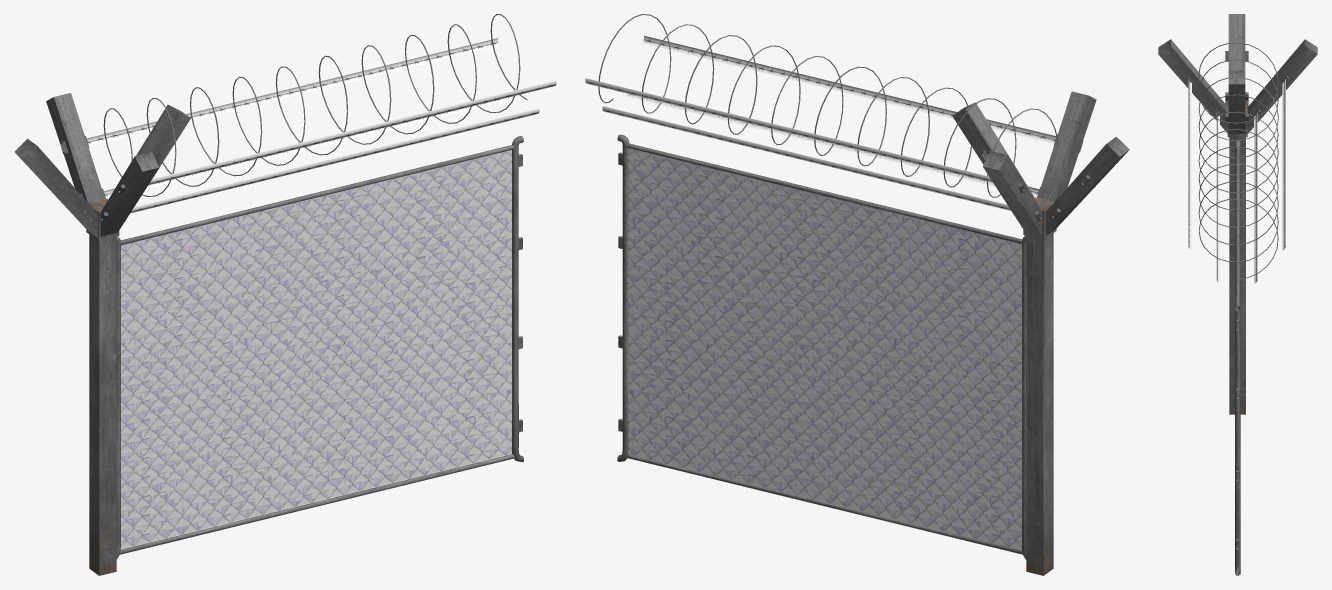
File: Fence_Corner.FBX
The picture shows the model from 3 angles, left to right: view 1: azimuth 30°, elevation 25°; view 2: azimuth 150°, elevation 25°; view 3: azimuth 270°, elevation 25°; orthographic projection. The views are drawn at different scales.
Parts seen in each view (by area): view 1: Fence_Corner; view 2: Fence_Corner; view 3: Fence_Corner.
Part boxes in pixels (x1,y1,x2,y2): Fence_Corner: (14, 14, 556, 575); Fence_Corner: (585, 14, 1129, 575); Fence_Corner: (1158, 14, 1317, 575).
Size of the model in its own units: 148 by 126 by 48.56.
Materials: 2 (2 with a texture image).
